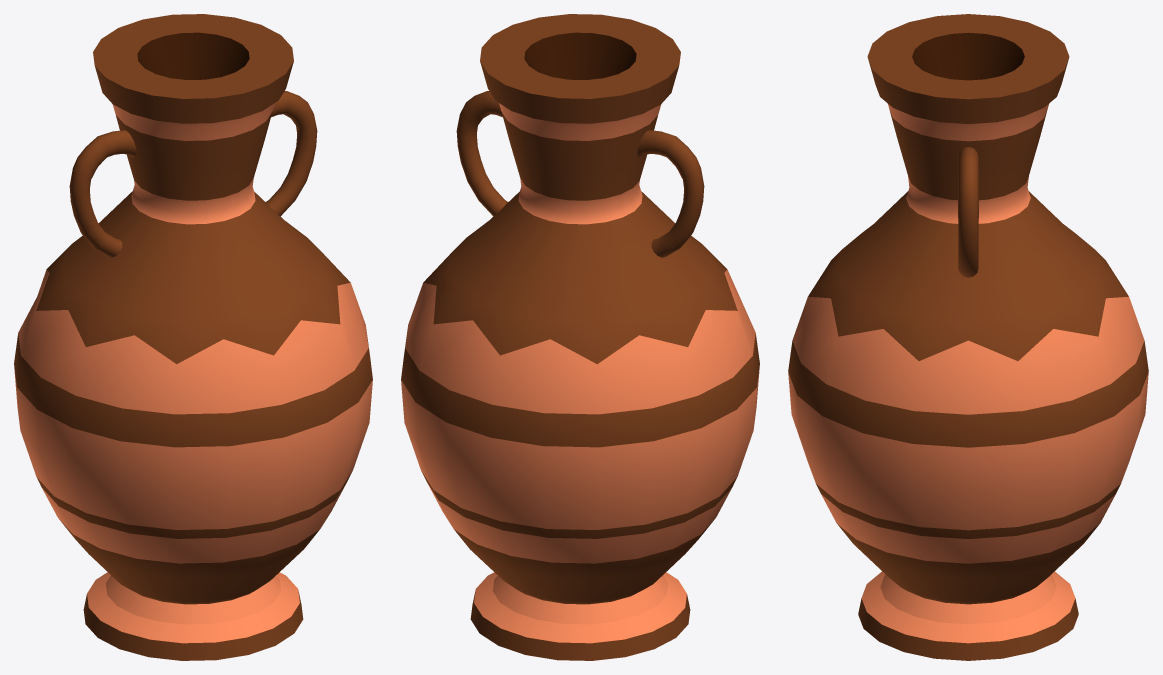
Rendered from Vase.fbx.
3 views of the same model, side by side, from view 1: azimuth 30°, elevation 25°; view 2: azimuth 150°, elevation 25°; view 3: azimuth 270°, elevation 25° (orthographic).
Visible parts, largest first — view 1: Vase; view 2: Vase; view 3: Vase.
Part boxes in pixels (<box>): Vase: <box>14,14,372,660</box>; Vase: <box>401,14,759,660</box>; Vase: <box>788,14,1148,660</box>.
Size of the model in its own units: 114 by 194 by 114.
